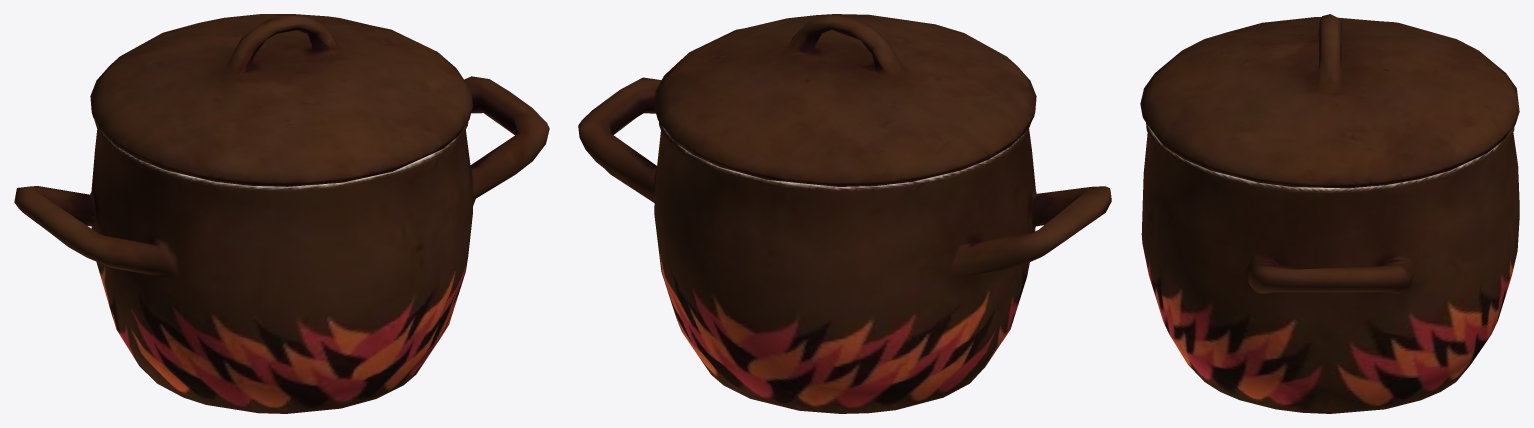
File: pot_enamel_01.glb
3 renders of one model, left to right at view 1: azimuth 30°, elevation 25°; view 2: azimuth 150°, elevation 25°; view 3: azimuth 270°, elevation 25°, orthographic.
Parts seen in each view (by area): view 1: pot_enamel_01_lid; view 2: pot_enamel_01_lid; view 3: pot_enamel_01_lid.
Part boxes in pixels (x1,y1,x2,y2): pot_enamel_01_lid: (14, 14, 549, 413); pot_enamel_01_lid: (578, 14, 1111, 413); pot_enamel_01_lid: (1140, 14, 1519, 413).
Bounding box in the file's own units: 0.2622 × 0.178 × 0.18.
Materials: 1 (1 with a texture image).
